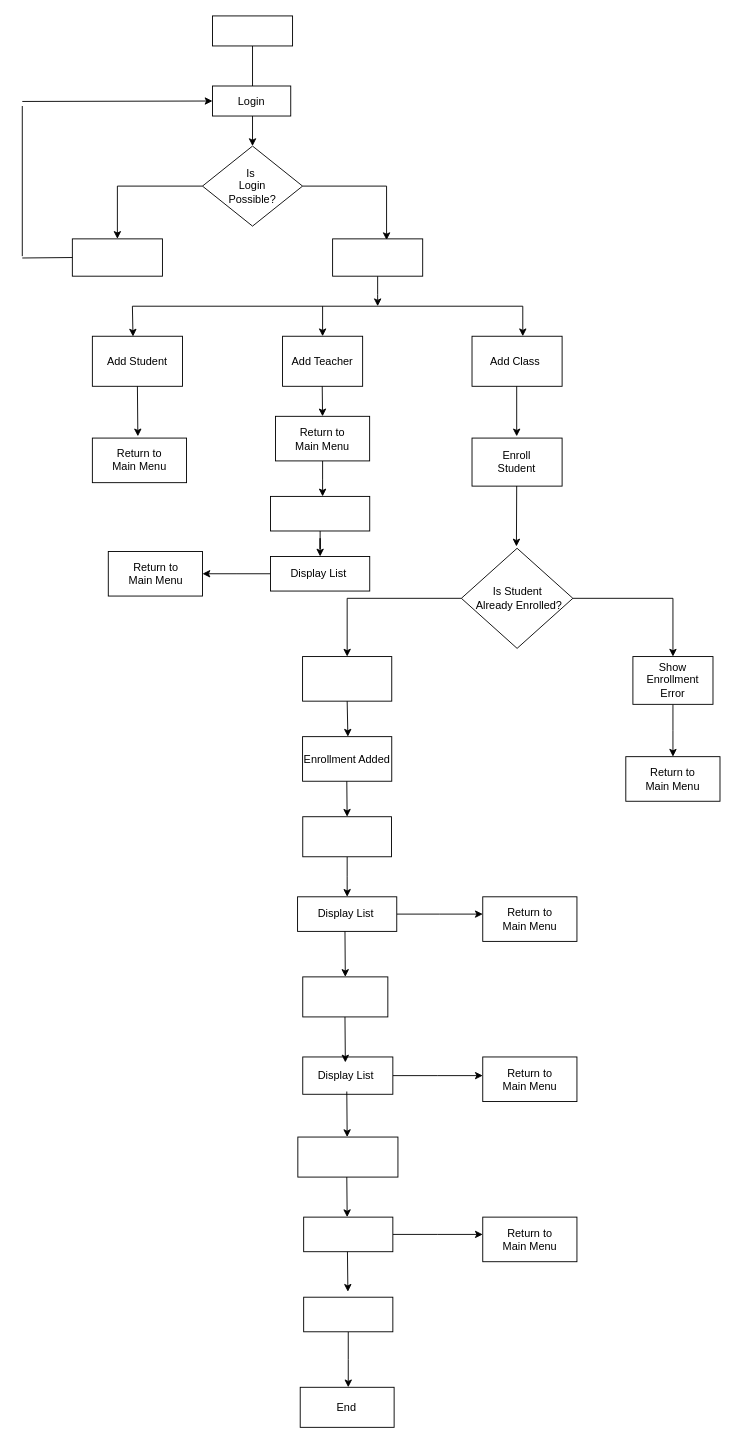
The diagram is 736 pixels wide and 1443 high, and some of its shapes have lost their labels. Here are the shapes that lost their labels. From the top down, the centre of each, then its label:
At (x=252, y=30): "Start".
At (x=116, y=257): "Login Error".
At (x=377, y=257): "Main Menu".
At (x=320, y=513): "List all Teachers".
At (x=347, y=678): "Add Enrollment to Database".
At (x=346, y=836): "List all Students".
At (x=345, y=996): "List all Classes".
At (x=347, y=1156): "Get Number of Students".
At (x=348, y=1234): "Display Count".
At (x=348, y=1314): "Exit".
